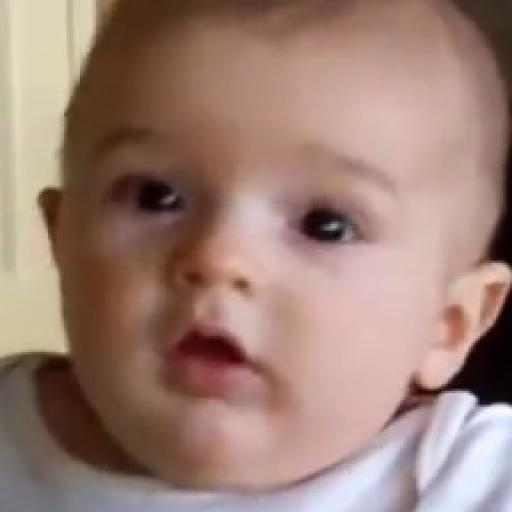Autism: (60, 0, 474, 507)
